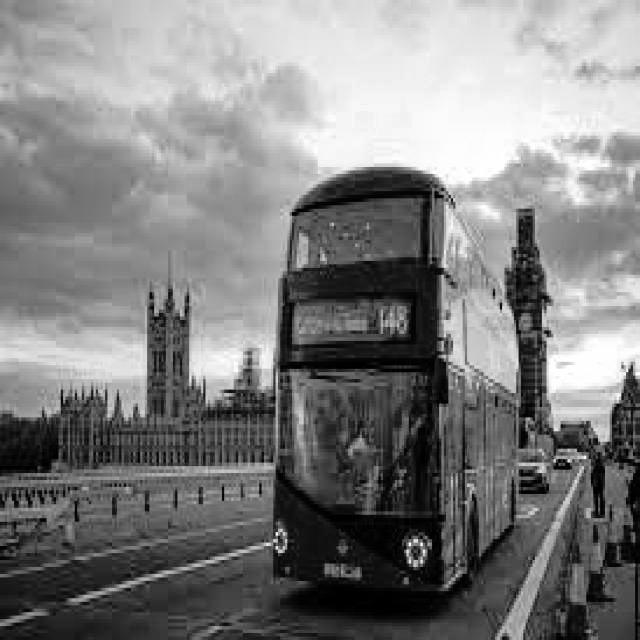Bus: (260, 148, 533, 616)
